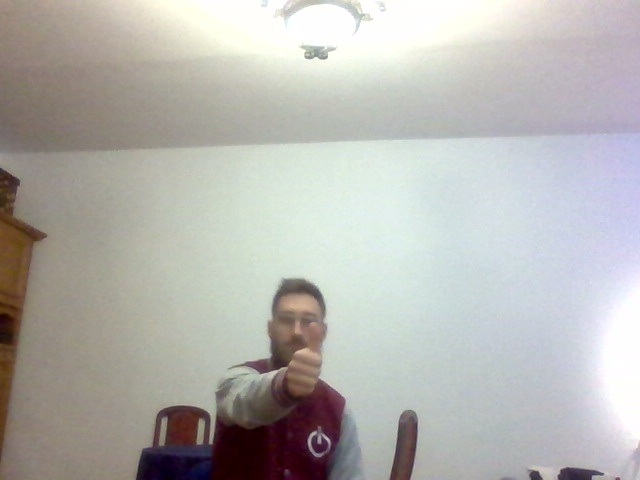ThumbsUp: (286, 322, 322, 395)
